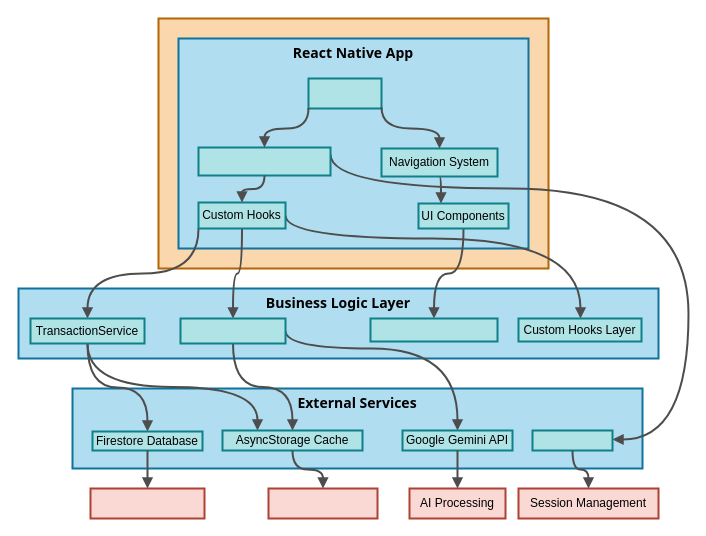
The diagram is 706 pixels wide and 536 high, and some of its shapes have lost their labels. Each missing label, with the centre of its shape:
AuthProvider Context: (x=264, y=161)
DocumentProcessor: (x=433, y=329)
Expo App: (x=344, y=93)
Firebase Auth: (x=572, y=440)
GeminiService: (x=232, y=330)
Offline Support: (x=322, y=503)
Real-time Sync: (x=147, y=503)
